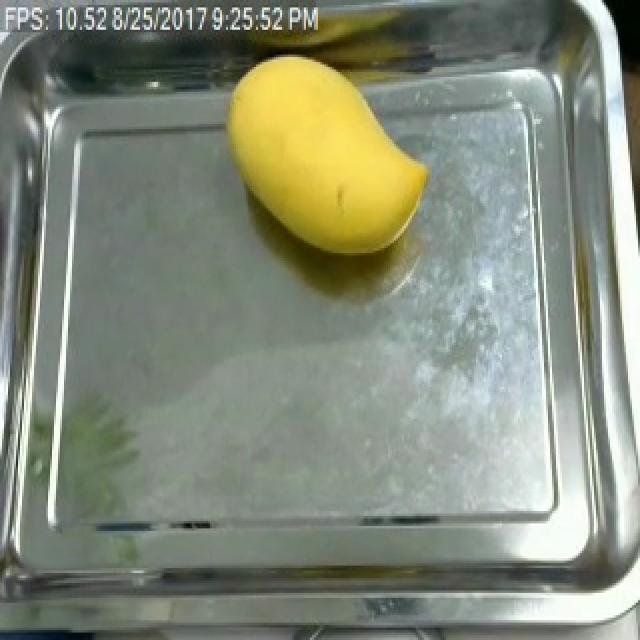fruit: (212, 45, 444, 270)
